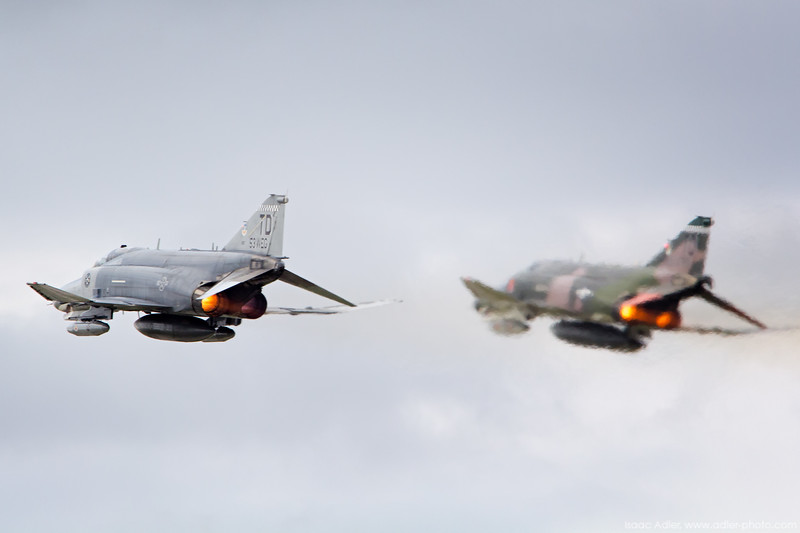F4: (25, 187, 404, 343), (458, 211, 800, 354)
